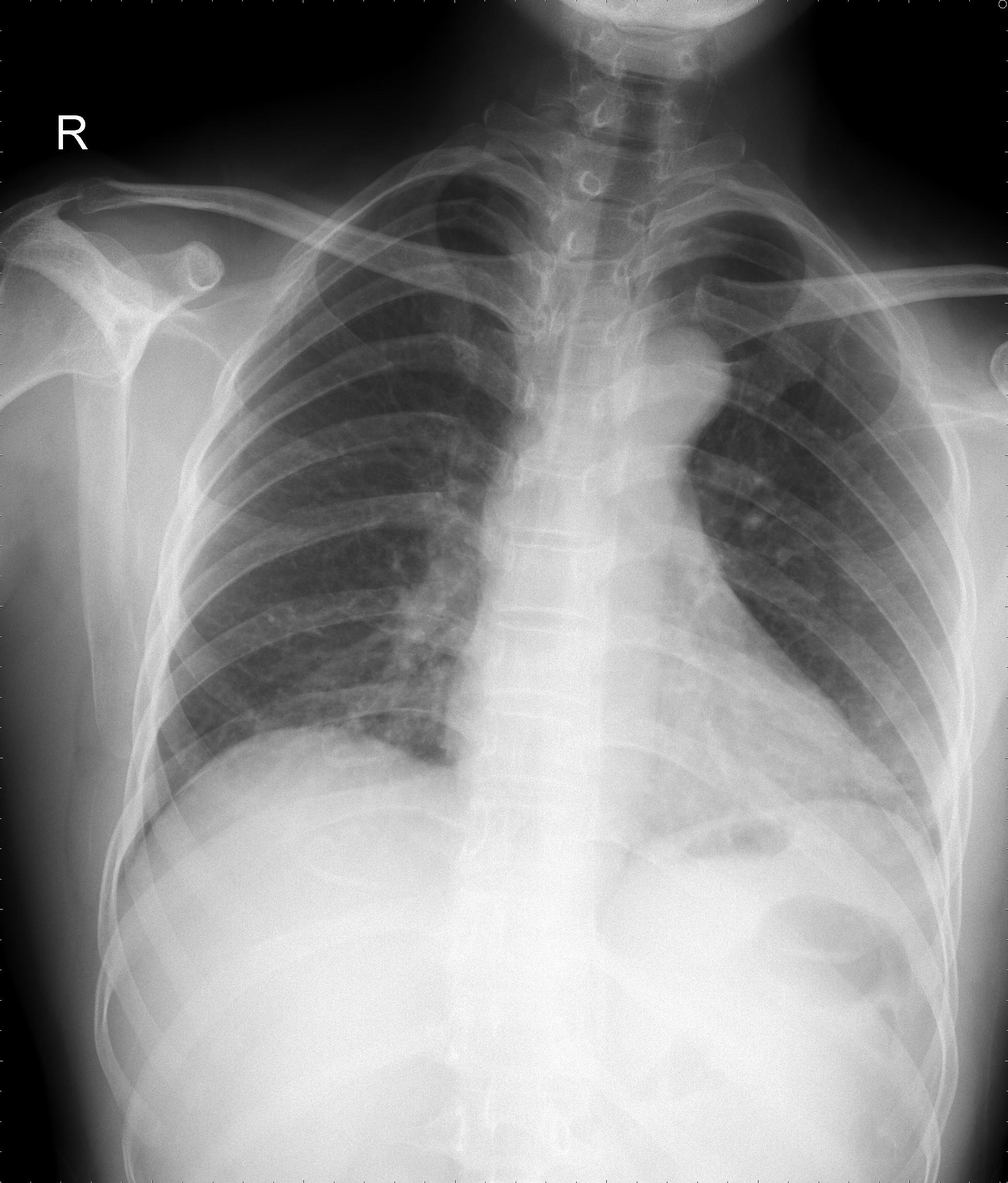Aortic enlargement: (601, 324, 733, 434)
Cardiomegaly: (438, 643, 918, 838)
